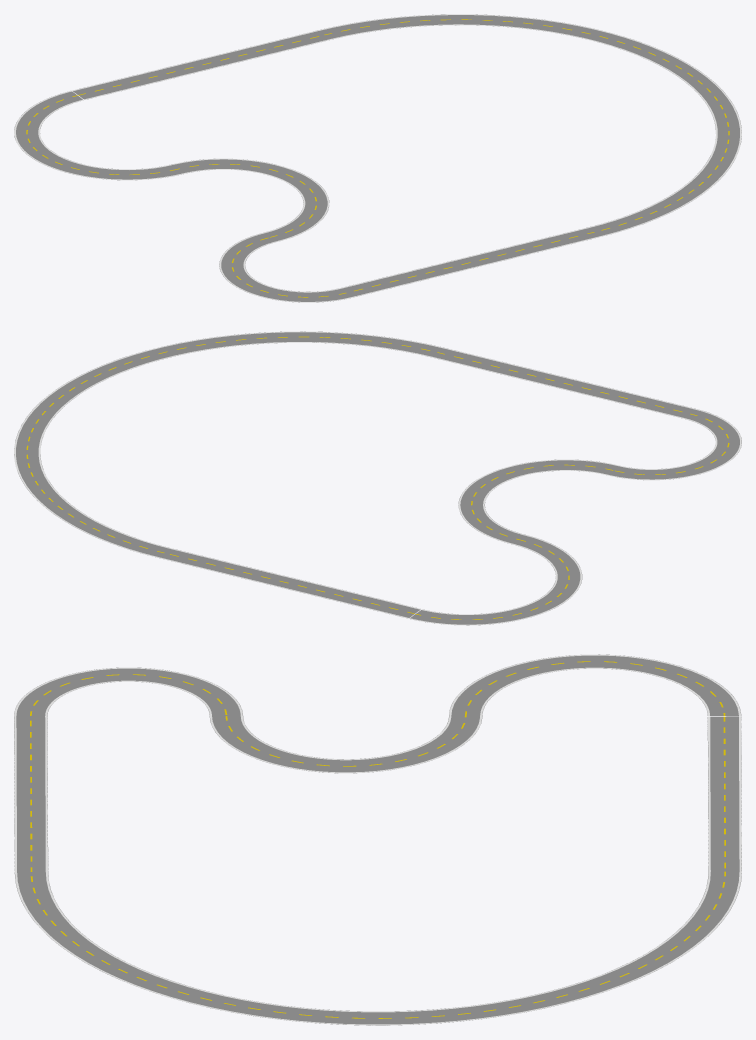
The model's file is track13.fbx.
3 renders of one model, top to bottom at view 1: azimuth 30°, elevation 25°; view 2: azimuth 150°, elevation 25°; view 3: azimuth 270°, elevation 25°, orthographic. The views are drawn at different scales.
Parts seen in each view (by area): view 1: road_arc_81, road_arc_85, road_arc_84, road_straight_82, road_straight_79, road_arc_83; view 2: road_arc_81, road_arc_85, road_arc_84, road_straight_82, road_straight_79, road_arc_83; view 3: road_arc_81, road_arc_85, road_arc_84, road_straight_82, road_straight_79, road_arc_83.
Boxes of the visible parts, x1,y1,x2,y2 form: road_arc_81: (318,14,741,236); road_arc_85: (14,91,183,180); road_arc_84: (171,158,329,241); road_straight_82: (340,227,600,297); road_straight_79: (72,30,330,99); road_arc_83: (219,232,352,302); road_arc_81: (14,331,443,557); road_arc_85: (409,534,582,625); road_arc_84: (458,459,619,544); road_straight_82: (431,347,696,418); road_straight_79: (158,548,420,618); road_arc_83: (607,409,741,480); road_arc_81: (14,871,741,1025); road_arc_85: (449,654,741,716); road_arc_84: (209,715,482,773); road_straight_82: (14,716,48,872); road_straight_79: (707,717,741,871); road_arc_83: (14,667,242,715).
Bounding box in the file's own units: 19722 × 0.00106 × 16354.
